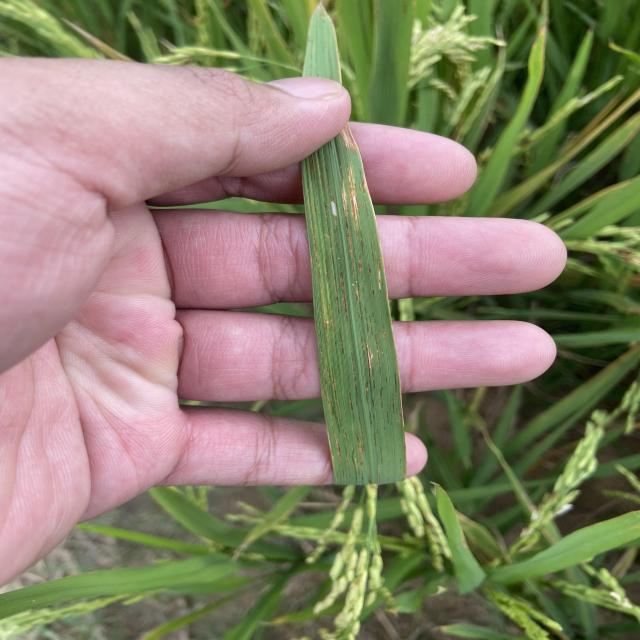Dom soc vi khuan: (307, 181, 334, 349), (339, 166, 363, 321), (347, 166, 365, 256), (331, 368, 350, 442), (324, 203, 335, 263), (331, 419, 343, 466), (327, 180, 338, 228), (365, 339, 375, 391), (340, 272, 348, 322), (320, 346, 327, 384), (356, 436, 363, 469), (376, 256, 382, 294), (334, 277, 340, 314), (351, 352, 357, 387), (339, 329, 344, 354), (358, 259, 362, 272)
